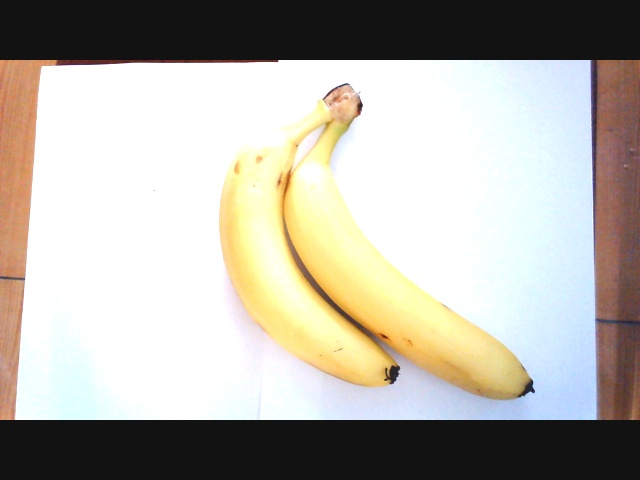banana: (225, 117, 539, 396)
